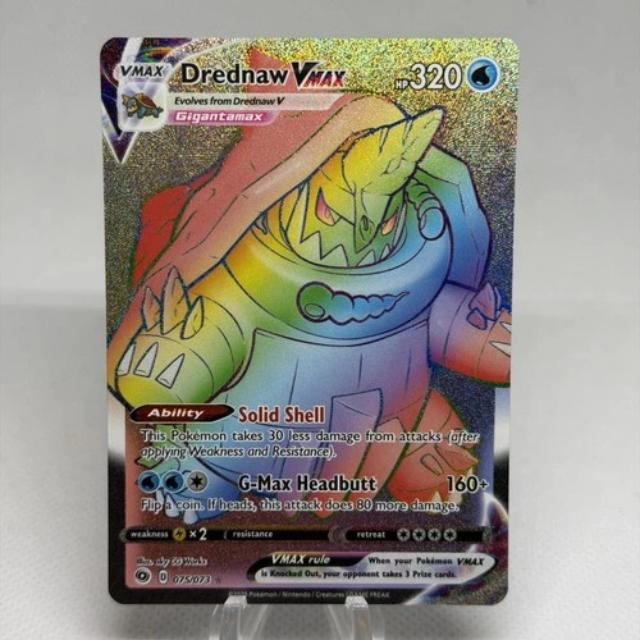Card: (95, 31, 525, 610)
Name: (173, 55, 354, 91)
